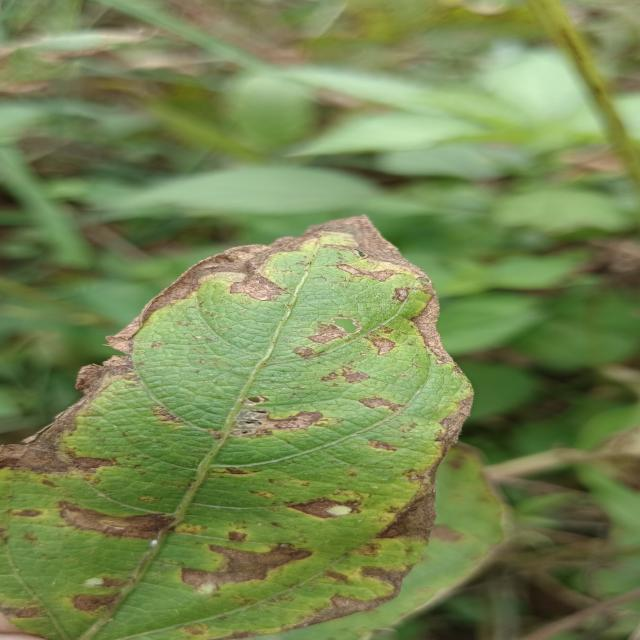Black gram_leaf spot: (0, 206, 484, 640)
